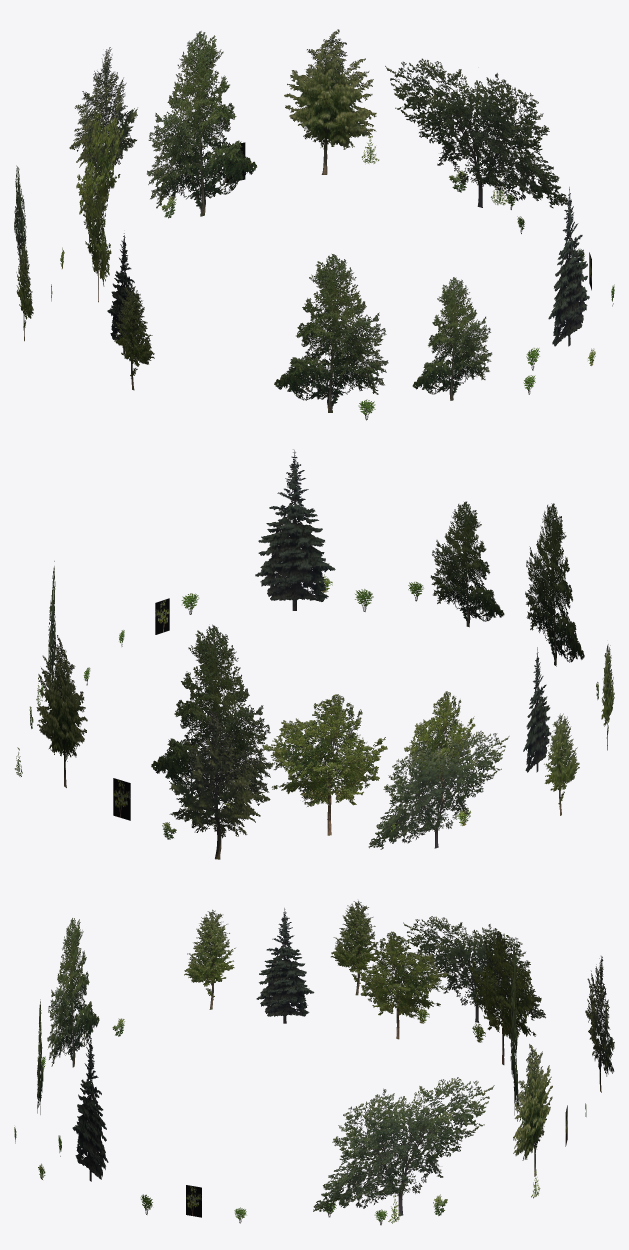
File: level_forest_n1.FBX
The picture shows the model from 3 angles, top to bottom: view 1: azimuth 30°, elevation 25°; view 2: azimuth 150°, elevation 25°; view 3: azimuth 270°, elevation 25°; orthographic projection. The views are drawn at different scales.
Visible parts, largest first — view 1: Tree_197, Tree_196, Tree_205, Tree_135, Tree_220, Tree_133, Tree_178, Tree_151, Tree_186, Tree_155, Tree_193, Tree_189 (+1 smaller); view 2: Tree_196, Tree_151, Tree_212, Tree_133, Tree_178, Tree_205, Tree_220, Tree_135, Tree_155, Tree_189, Tree_193, Tree_186 (+2 smaller); view 3: Tree_197, Tree_212, Tree_155, Tree_205, Tree_151, Tree_193, Tree_135, Tree_178, Tree_186, Tree_189, Tree_133, Tree_196 (+1 smaller).
Part boxes in pixels (left/top/right/bottom): Tree_197: left=385, top=58, right=568, bottom=208; Tree_196: left=147, top=31, right=256, bottom=216; Tree_205: left=274, top=254, right=388, bottom=412; Tree_135: left=284, top=29, right=376, bottom=174; Tree_220: left=412, top=277, right=492, bottom=400; Tree_133: left=69, top=47, right=137, bottom=185; Tree_178: left=548, top=187, right=589, bottom=346; Tree_151: left=76, top=111, right=123, bottom=235; Tree_186: left=113, top=283, right=154, bottom=390; Tree_155: left=83, top=190, right=111, bottom=302; Tree_193: left=107, top=233, right=138, bottom=354; Tree_189: left=16, top=239, right=33, bottom=341; Tree_196: left=151, top=624, right=272, bottom=808; Tree_151: left=262, top=694, right=387, bottom=835; Tree_212: left=368, top=730, right=509, bottom=849; Tree_133: left=169, top=710, right=270, bottom=859; Tree_178: left=255, top=449, right=335, bottom=610; Tree_205: left=525, top=503, right=584, bottom=666; Tree_220: left=430, top=501, right=504, bottom=627; Tree_135: left=36, top=635, right=87, bottom=787; Tree_155: left=404, top=691, right=475, bottom=805; Tree_189: left=544, top=713, right=579, bottom=815; Tree_193: left=523, top=647, right=551, bottom=772; Tree_186: left=601, top=644, right=614, bottom=750; Tree_197: left=313, top=1077, right=494, bottom=1216; Tree_212: left=403, top=916, right=545, bottom=1022; Tree_155: left=355, top=931, right=447, bottom=1039; Tree_205: left=47, top=918, right=99, bottom=1067; Tree_151: left=470, top=931, right=541, bottom=1064; Tree_193: left=256, top=908, right=314, bottom=1023; Tree_135: left=513, top=1044, right=552, bottom=1176; Tree_178: left=72, top=1033, right=108, bottom=1181; Tree_186: left=184, top=909, right=235, bottom=1009; Tree_189: left=331, top=900, right=380, bottom=995; Tree_133: left=585, top=956, right=614, bottom=1092; Tree_196: left=510, top=940, right=518, bottom=1115.
Size of the model in its own units: 59.77 by 20.17 by 62.58.
